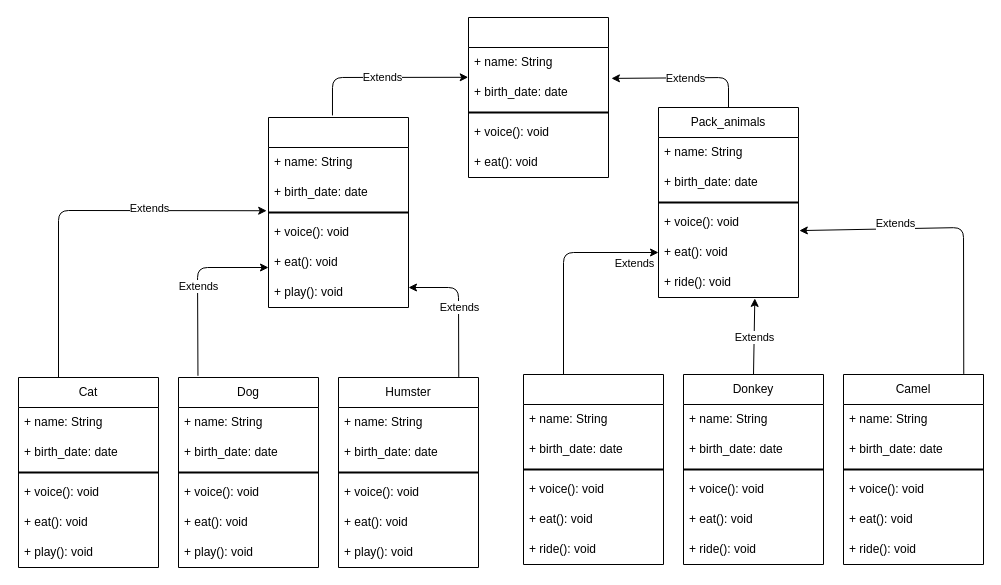
Image size: 1001x585. Some labels were removed from this diagram. The box of each missing label's shape, as (x1, y1, x2, y2) in pixels:
Animals: (468, 16, 608, 178)
Domestic_animals: (268, 116, 408, 308)
Horse: (522, 374, 664, 564)
